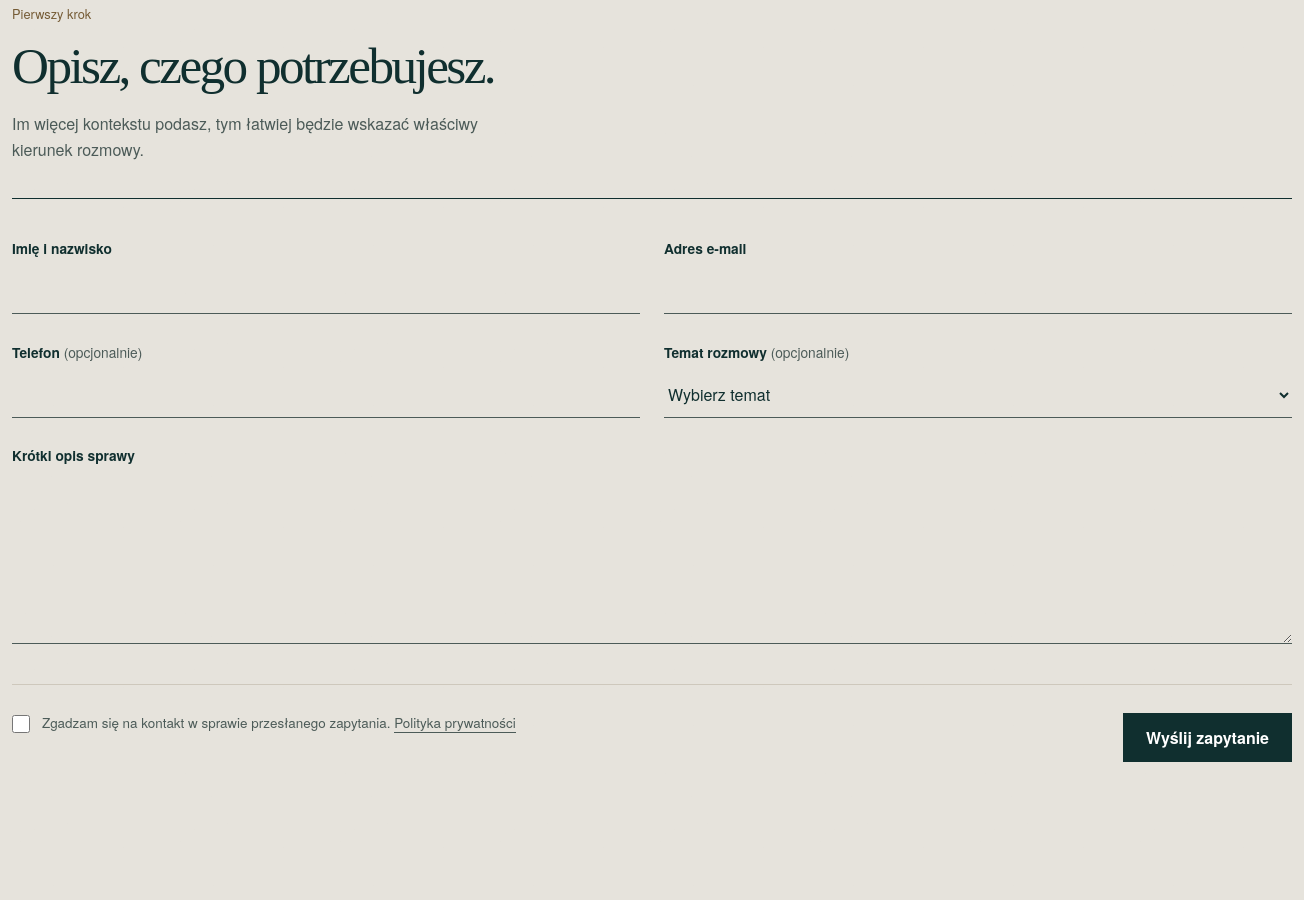
it: ContactForm › shows the demo success state after a valid response
The image size is (1304, 900).
Type "Jan Kowalski" into the field labelled "Imię i nazwisko" at (326, 291), box x1=12 y1=268 x2=640 y2=314
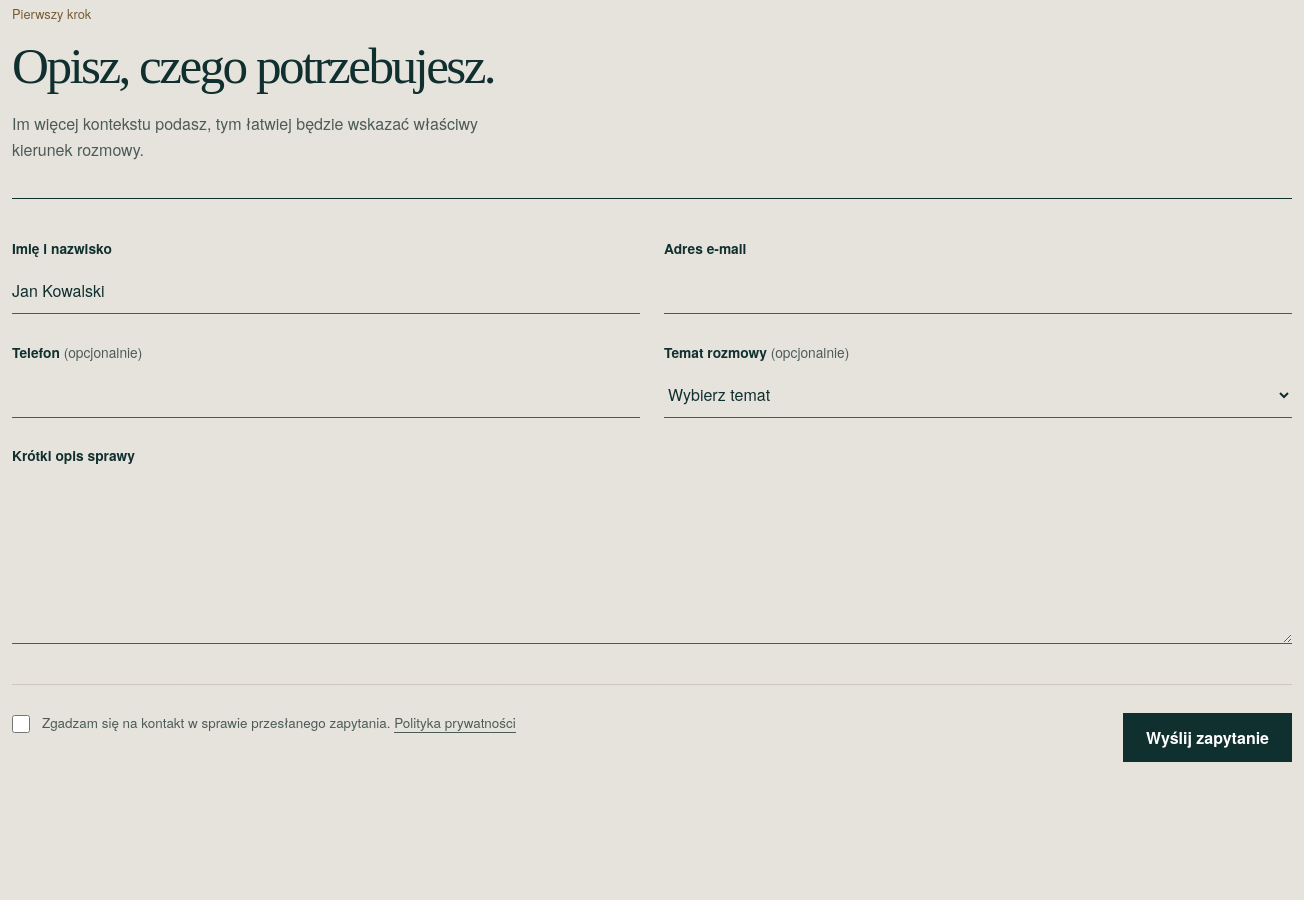
Type "jan@example.com" into the field labelled "Adres e-mail" at (978, 291), box x1=664 y1=268 x2=1292 y2=314
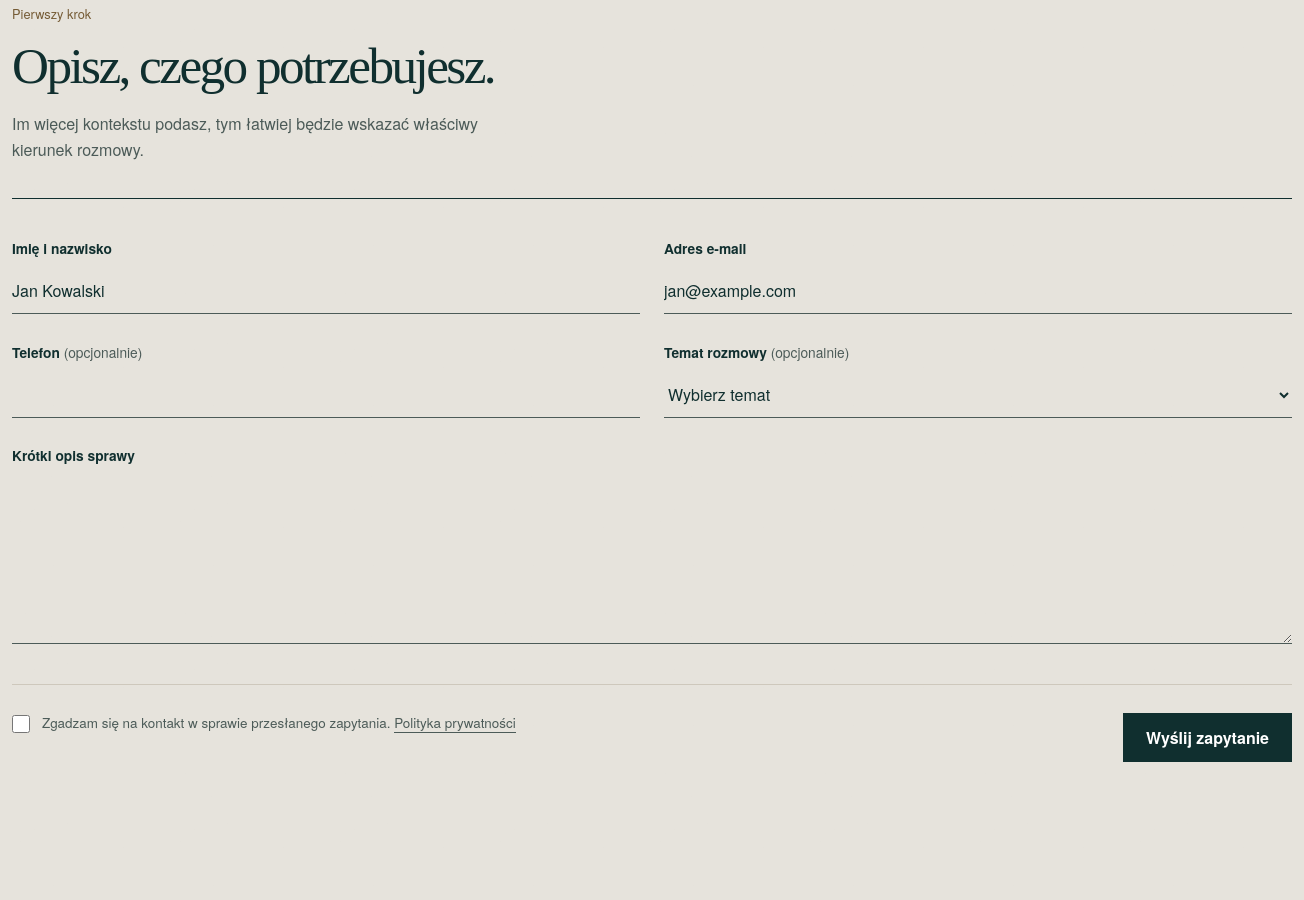
Type "Potrzebuję konsultacji w sprawie umowy." into the text box labelled "Krótki opis sprawy" at (652, 560), box x1=12 y1=475 x2=1292 y2=644
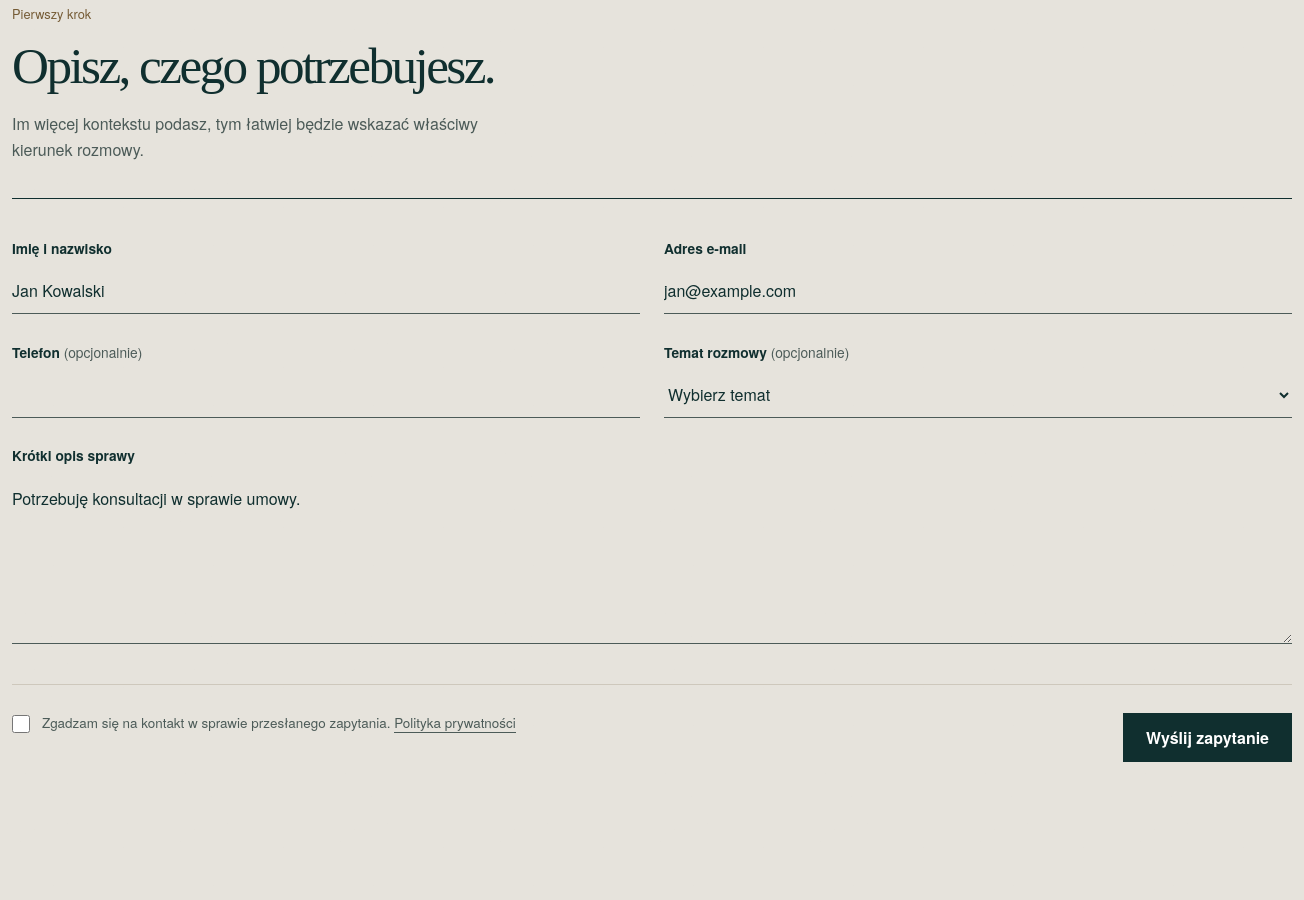
Click the checkbox at (21, 724), box x1=12 y1=715 x2=30 y2=733
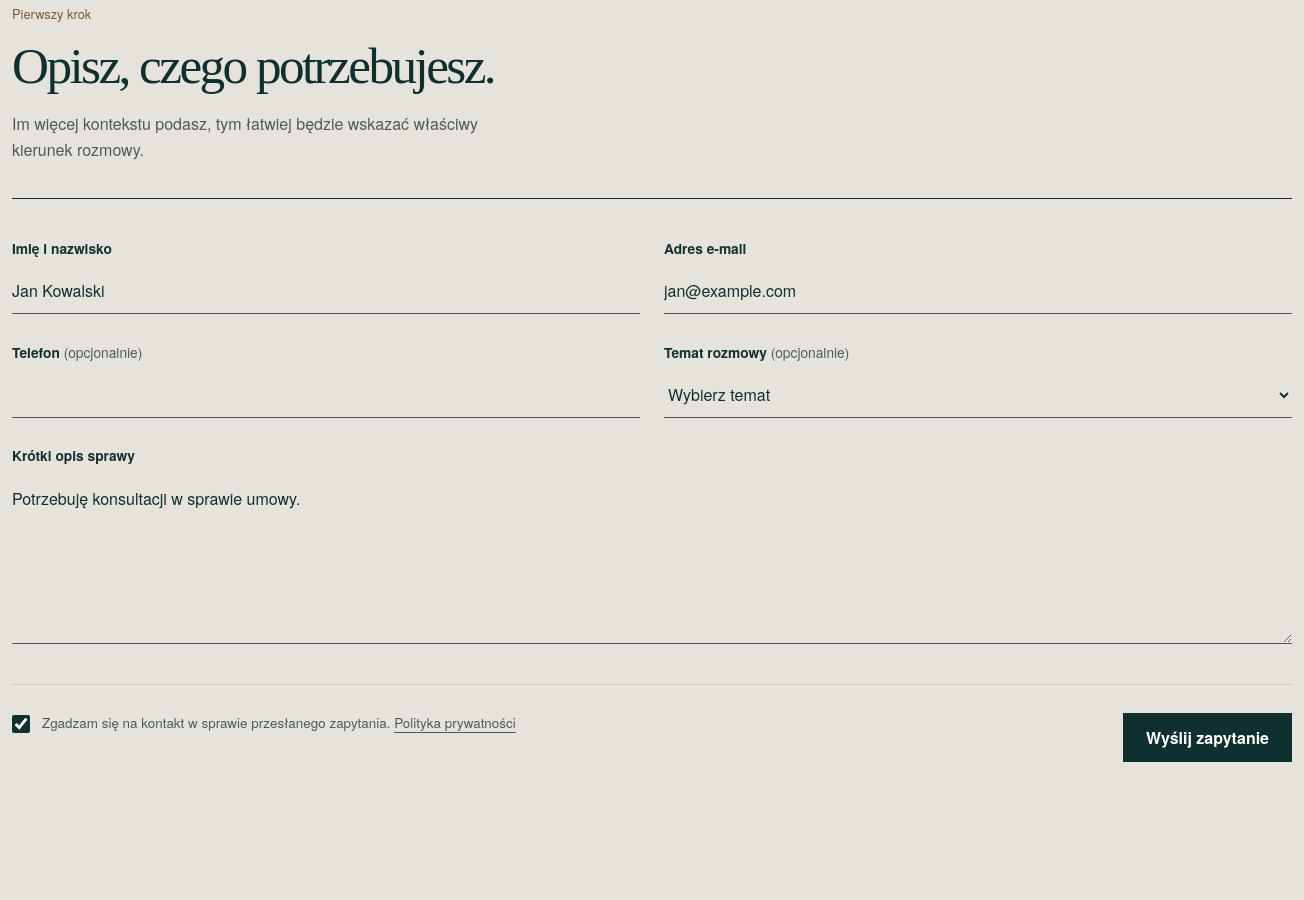
Submit the form from the button "Wyślij zapytanie", box x1=1123 y1=713 x2=1292 y2=762
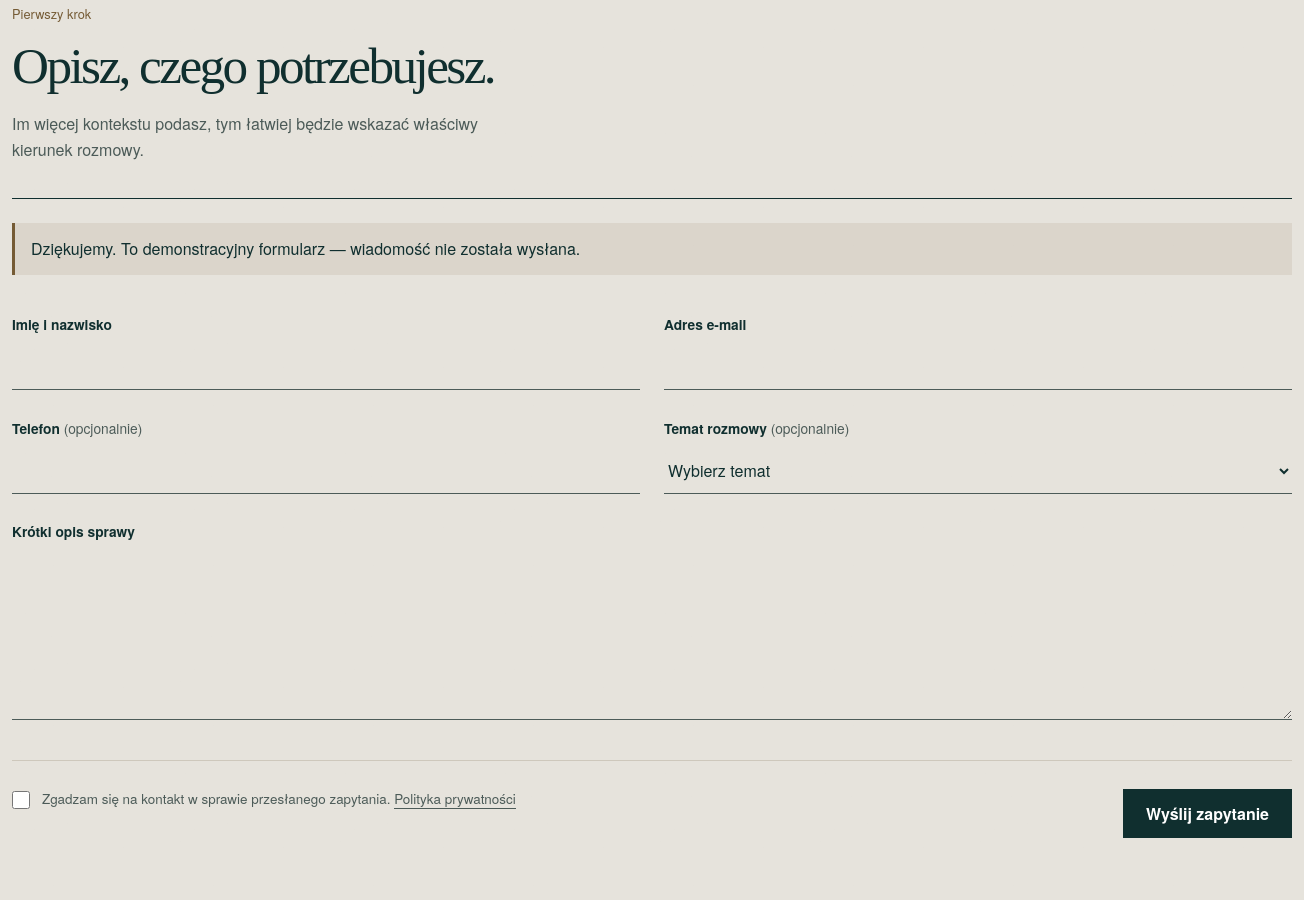
Result: the message shows "wiadomość nie została wysłana" at x1=31 y1=237 x2=580 y2=260
